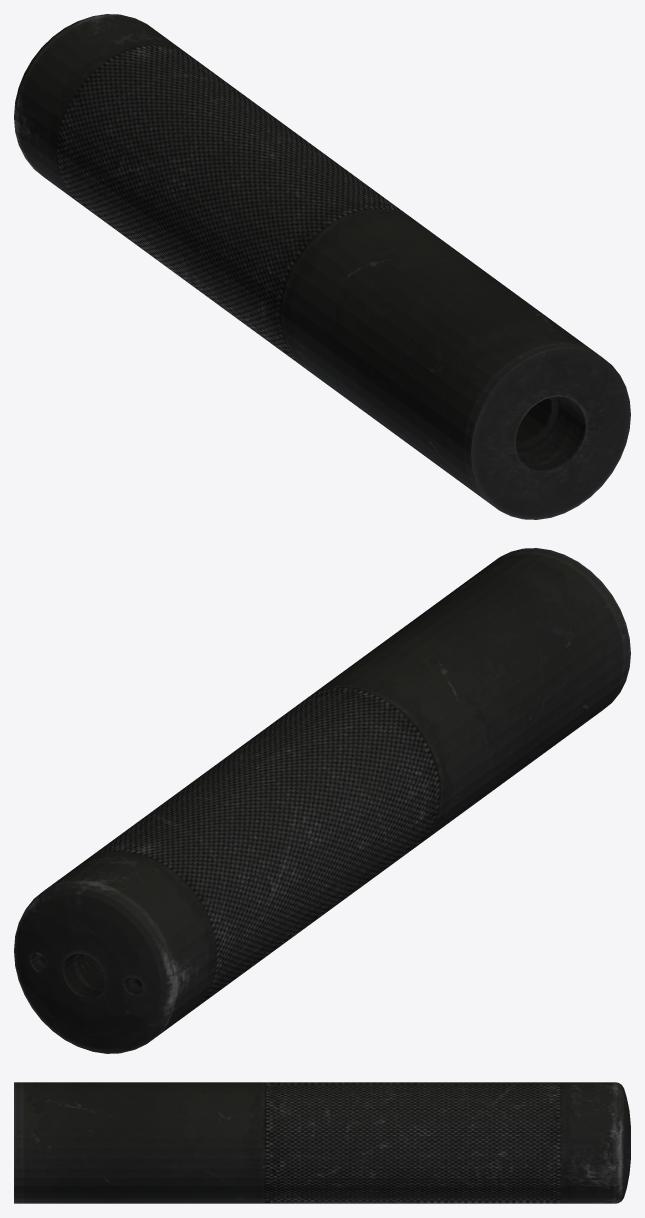
3 views of the same model, one above another, from view 1: azimuth 30°, elevation 25°; view 2: azimuth 150°, elevation 25°; view 3: azimuth 270°, elevation 25° (orthographic). The views are drawn at different scales.
Parts seen in each view (by area): view 1: TW_676149c5062e6212f5058c36_PZ_Import; view 2: TW_676149c5062e6212f5058c36_PZ_Import; view 3: TW_676149c5062e6212f5058c36_PZ_Import.
Part boxes in pixels (box(x1,y1,x2,y2)): TW_676149c5062e6212f5058c36_PZ_Import: box(14, 14, 630, 519); TW_676149c5062e6212f5058c36_PZ_Import: box(14, 548, 630, 1053); TW_676149c5062e6212f5058c36_PZ_Import: box(14, 1082, 630, 1203).
Bounding box in the file's own units: 0.0227 × 0.115 × 0.0227.
1 material, 1 textured.
